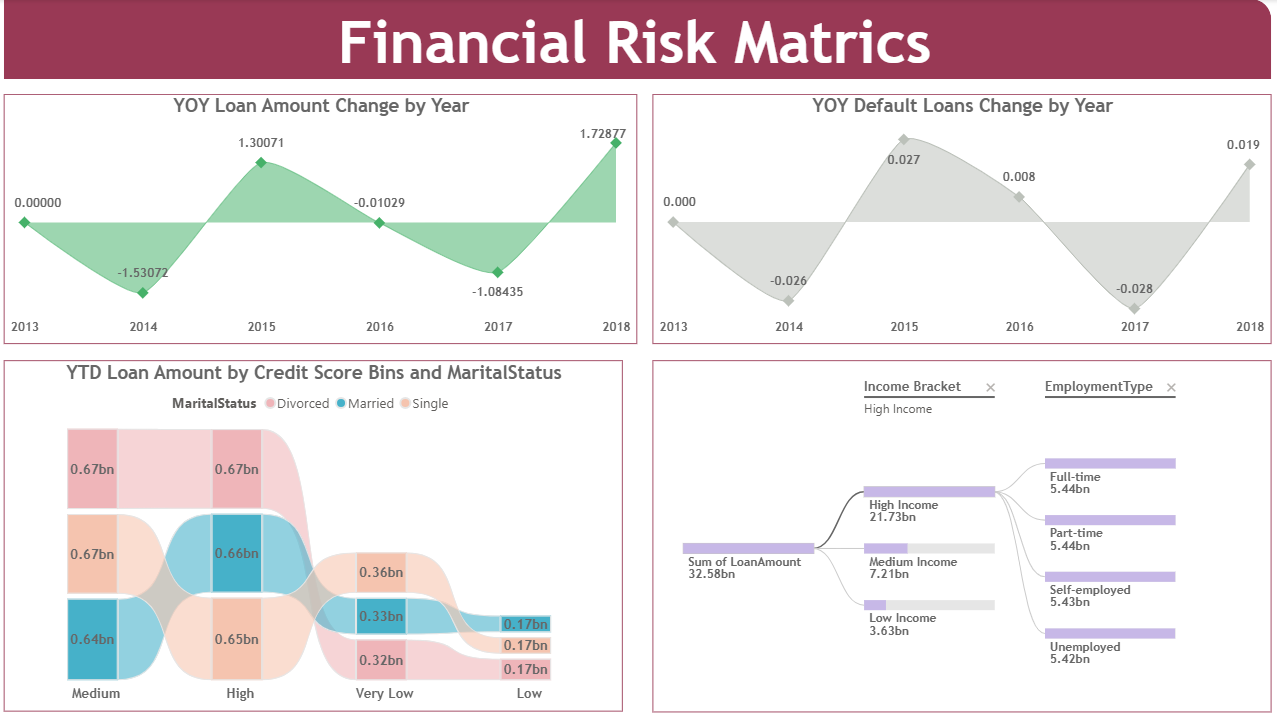

This screenshot's page, from the dashboard's own definition file:
{"tool":"powerbi","page":{"name":" Financial risk Matrics","canvas":[1280,720],"ordinal":2},"visuals":[{"type":"shape","box":[8.7,0,1261.4,79.6],"z":0},{"type":"lineChart","fields":{"Category":["Loan_default.Year"],"Y":["Measures Table3.YOY Loan Amount Change"]},"box":[8.7,94.5,630.7,248.8],"z":1000},{"type":"lineChart","fields":{"Y":["Measures Table3.YOY Default Loans Change"],"Category":["Loan_default.Year"]},"box":[654.3,94.5,615.8,248.8],"z":2000},{"type":"ribbonChart","fields":{"Category":["Loan_default.Credit Score Bins"],"Y":["Measures Table3.YTD Loan Amount"],"Series":["Loan_default.MaritalStatus"]},"box":[8.7,359.5,615.8,349.6],"z":3000},{"type":"decompositionTreeVisual","fields":{"Analyze":["Sum(Loan_default.LoanAmount)"],"ExplainBy":["Loan_default.Income Bracket","Loan_default.EmploymentType"]},"box":[654,360,616,350],"z":4000}]}

Visuals, with their boxes in screenshot pixels (x1, y1, x2, y2), scaled from the page's 1280x720 canvas onto the 1277x715 screenshot:
shape: region(9, 0, 1267, 79)
lineChart - Loan_default.Year x Measures Table3.YOY Loan Amount Change: region(9, 94, 638, 341)
lineChart - Measures Table3.YOY Default Loans Change x Loan_default.Year: region(653, 94, 1267, 341)
ribbonChart - Loan_default.Credit Score Bins x Measures Table3.YTD Loan Amount: region(9, 357, 623, 704)
decompositionTreeVisual - Sum(Loan_default.LoanAmount) x Loan_default.Income Bracket: region(652, 358, 1267, 705)
